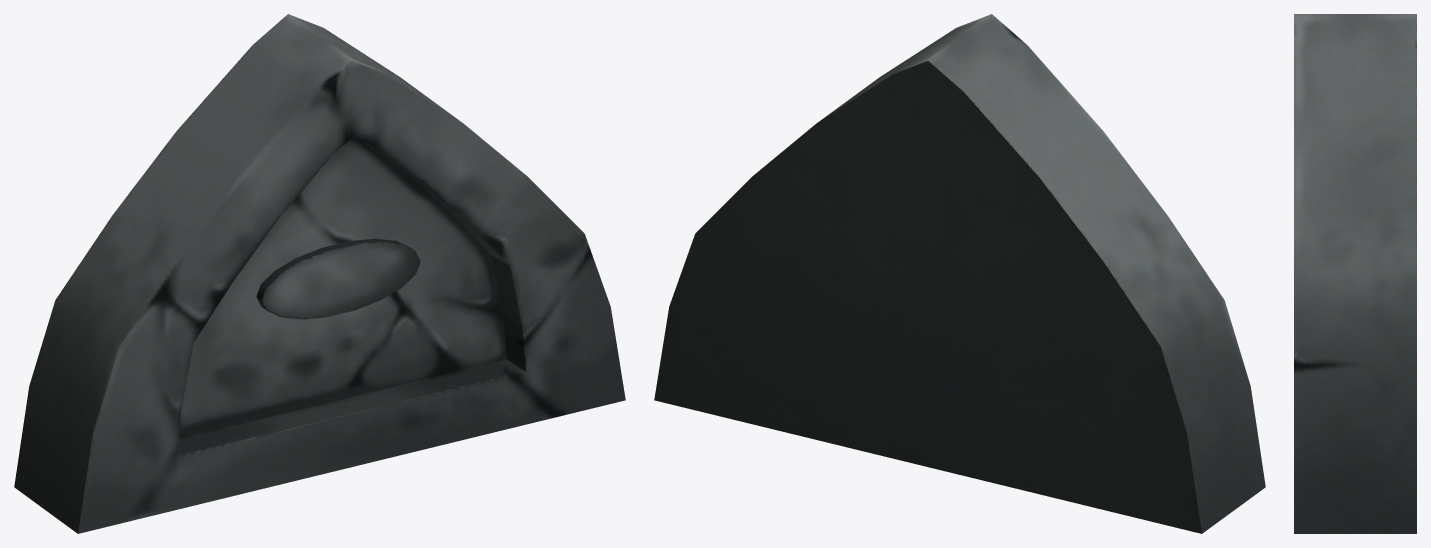
The model's file is gravestone_002.fbx.
3 views of the same model, side by side, from view 1: azimuth 30°, elevation 25°; view 2: azimuth 150°, elevation 25°; view 3: azimuth 270°, elevation 25° (orthographic). The views are drawn at different scales.
Visible parts, largest first — view 1: gravestone_002; view 2: gravestone_002; view 3: gravestone_002.
Boxes of the visible parts, x1,y1,x2,y2 form: gravestone_002: [14, 14, 625, 533]; gravestone_002: [654, 14, 1265, 533]; gravestone_002: [1294, 14, 1416, 533].
Bounding box in the file's own units: 129 × 91.3 × 25.98.
